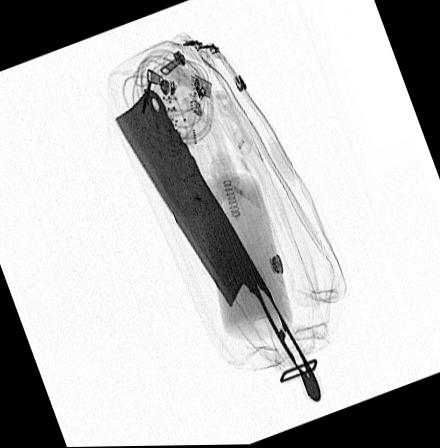Knife: (114, 84, 324, 404)
